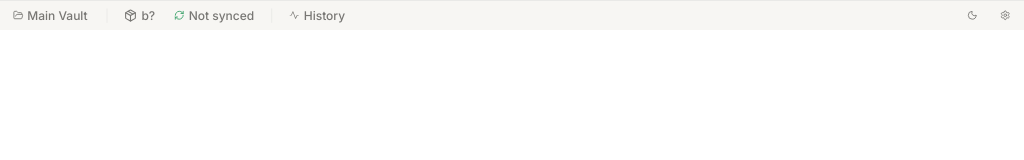
it: StatusBar › end-aligns the theme tooltip to keep it inside the right window edge
Focus the button with test id "status-theme-mode" at (972, 16), box [962,5,983,26]
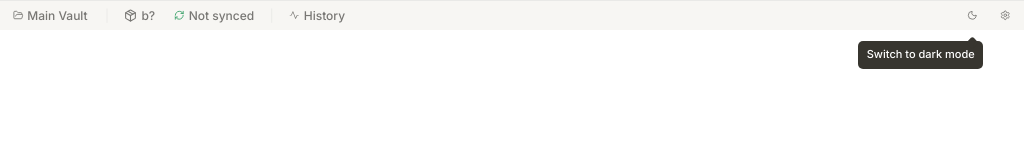
Expected: the element with test id "status-theme-mode-tooltip" reads "Switch to dark mode", [867,47,975,61]
